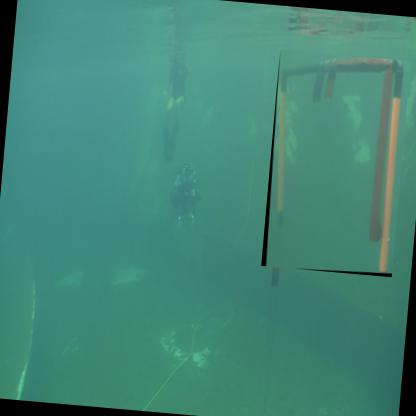gate: (262, 51, 413, 280)
